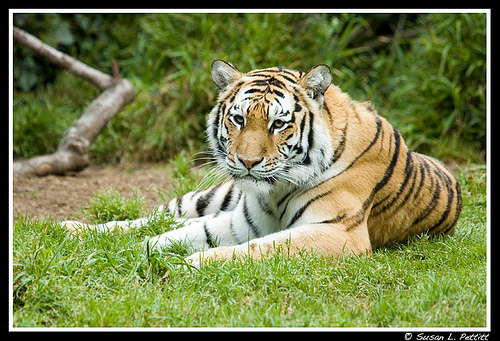Tigre: (195, 48, 467, 261)
